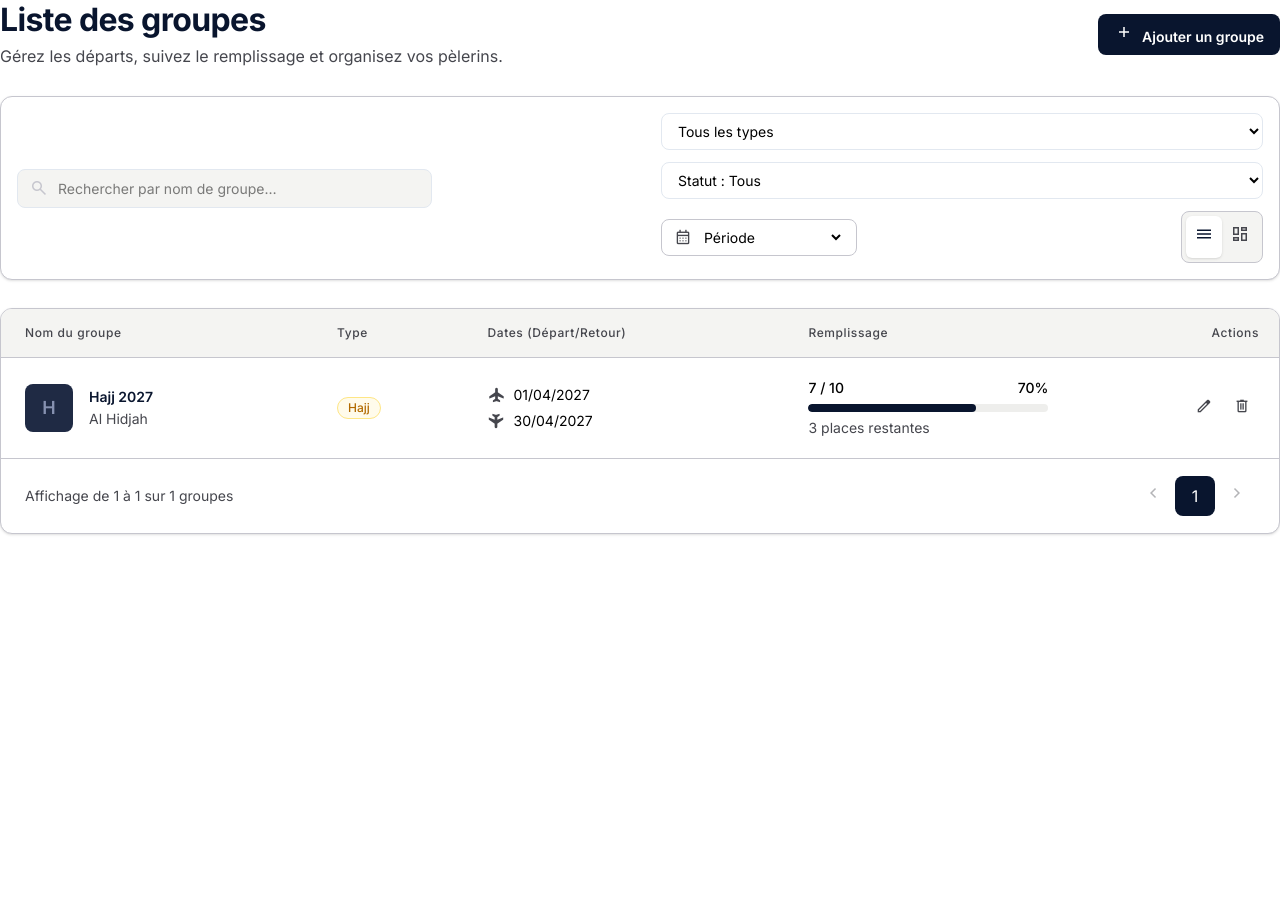
Test: Groupes › demande confirmation avant de supprimer un groupe et permet d’annuler
The width and height of the screenshot is (1280, 900).
Step 1. Click the button titled "Supprimer" → click(1242, 408), box [1225, 388, 1259, 428]
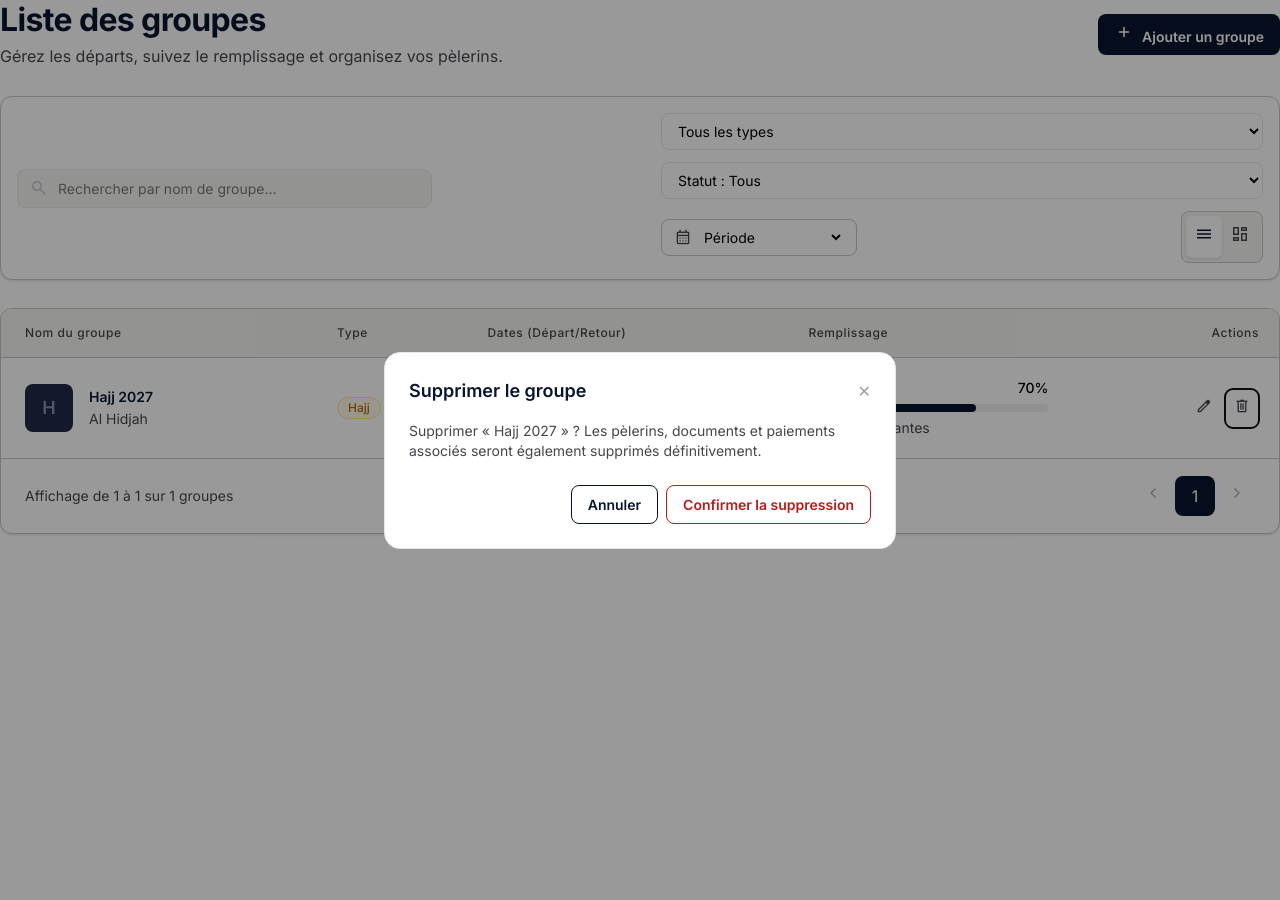
Check: the text "Les pèlerins, documents et paiements associés seront également supprimés définitivement" is shown, box [409, 422, 835, 458]
Step 2. Click the button "Annuler" → click(614, 504), box [571, 484, 658, 524]
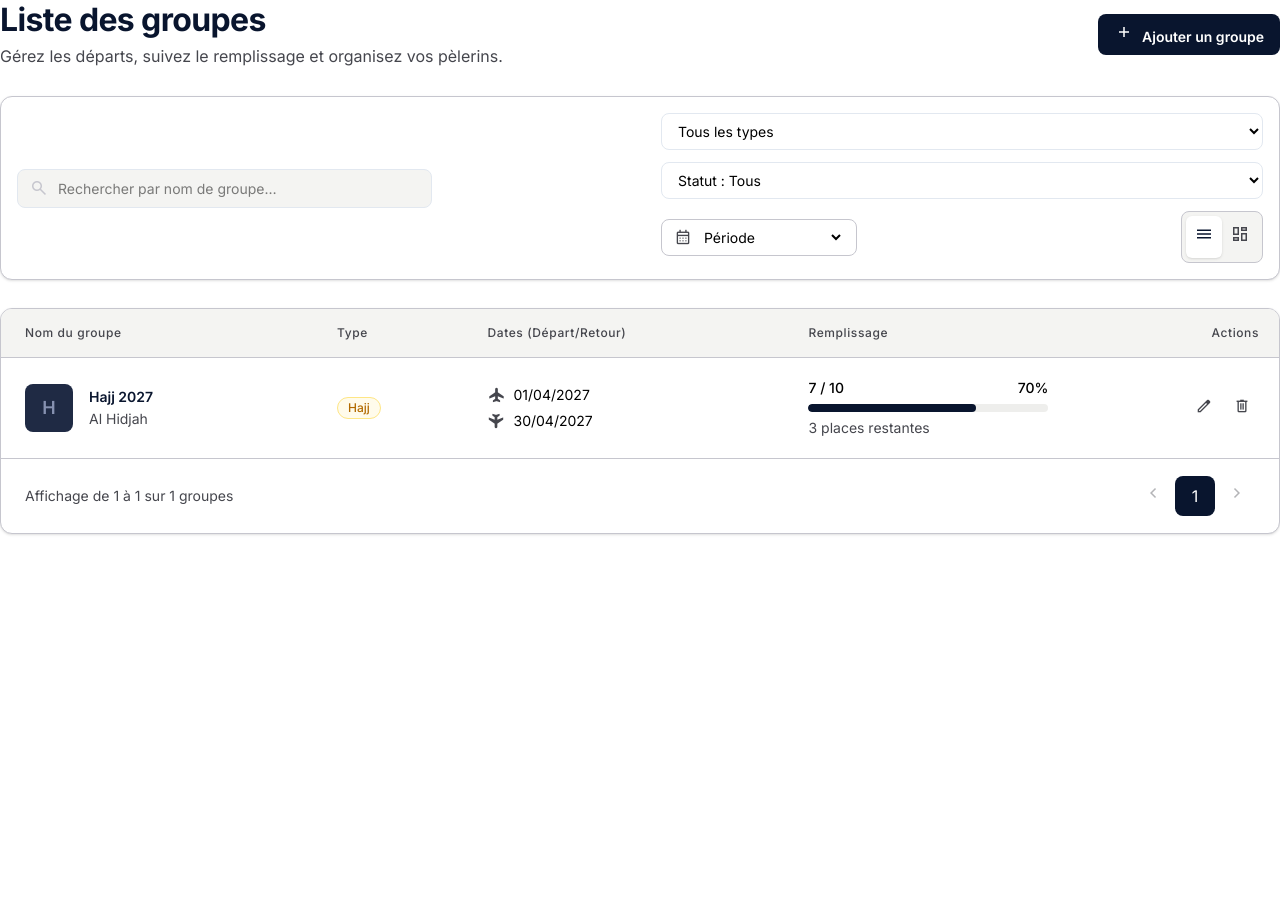
Check: the text "Les pèlerins, documents et paiements associés" is gone
